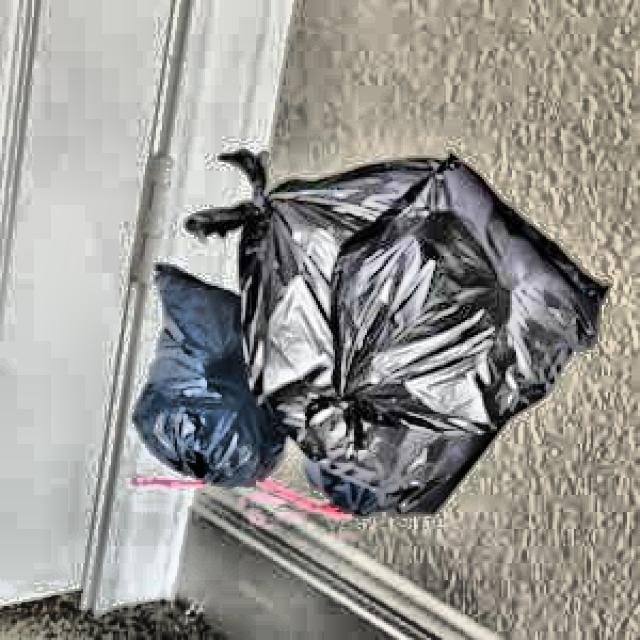Trashbag: (249, 155, 612, 513), (126, 262, 262, 488)
